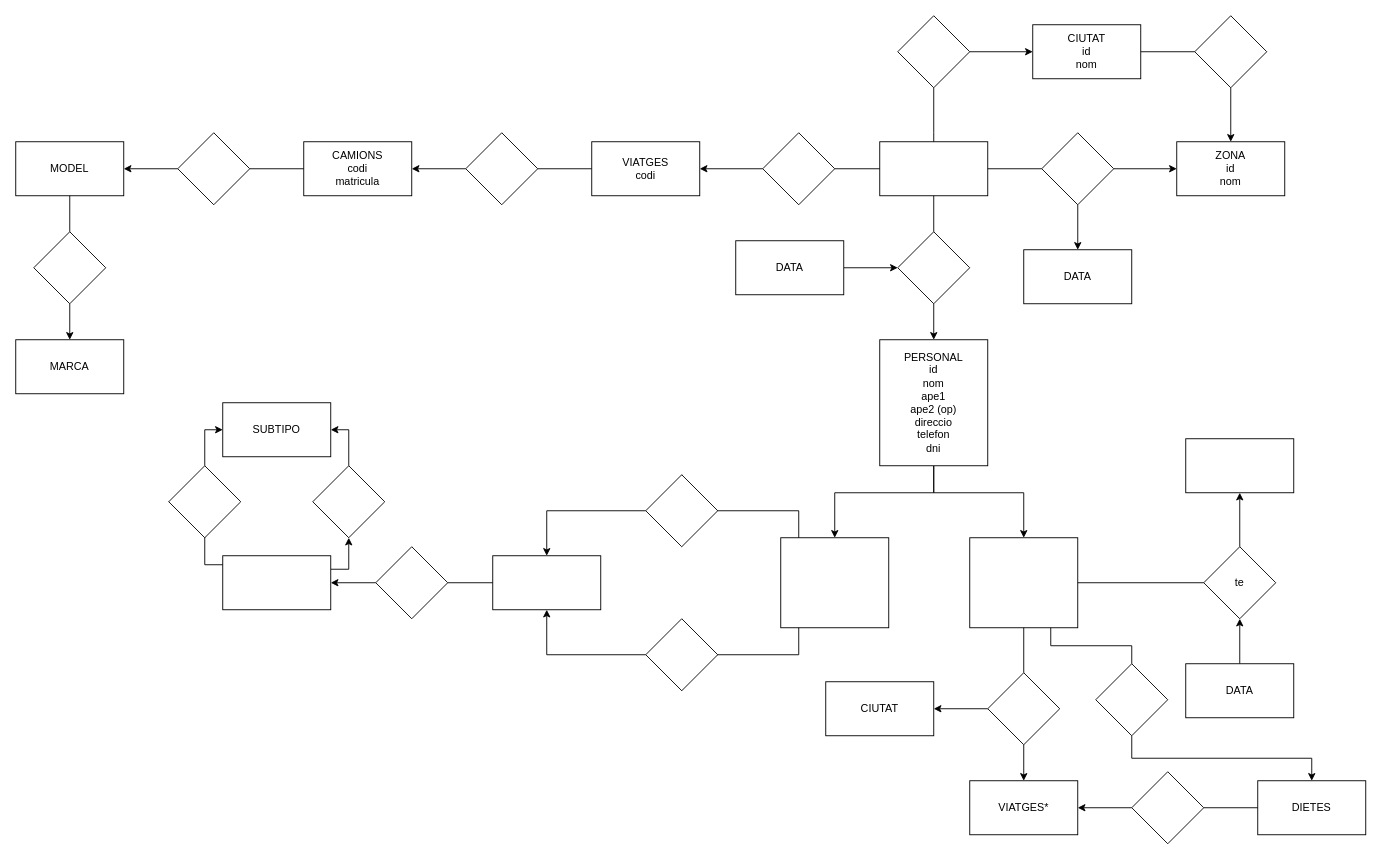
The diagram is 1382 pixels wide and 860 high, and some of its shapes have lost their labels. The shapes that lost their labels are listed below. From the top down, each one's centre as x and y in pixels, then its label:
At [933,168]: "DELEGACION nom telefon".
At [1239,465]: "TIPO_CARNET id nom".
At [276,582]: "TIPO id nom".
At [546,582]: "ESTUDIOS".
At [834,582]: "ADMINISTRATIU".
At [1023,582]: "CONDUCTOR".
